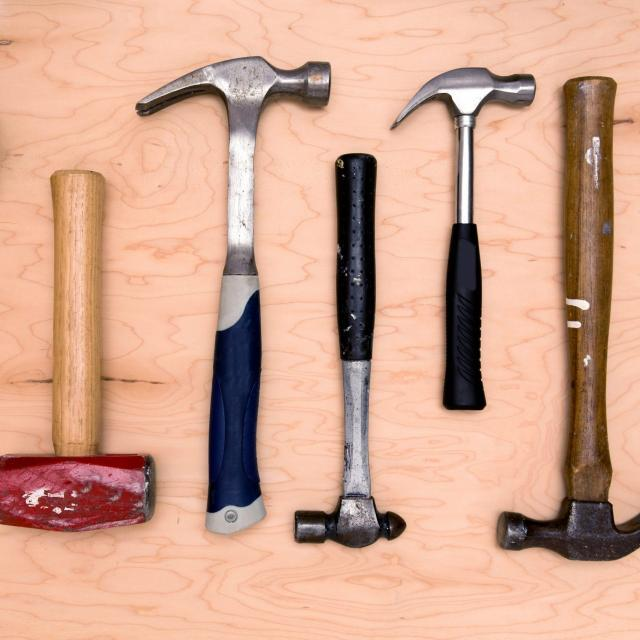hammer: (132, 54, 340, 545), (492, 52, 640, 565), (0, 162, 156, 538), (386, 65, 548, 415), (287, 147, 410, 552)
